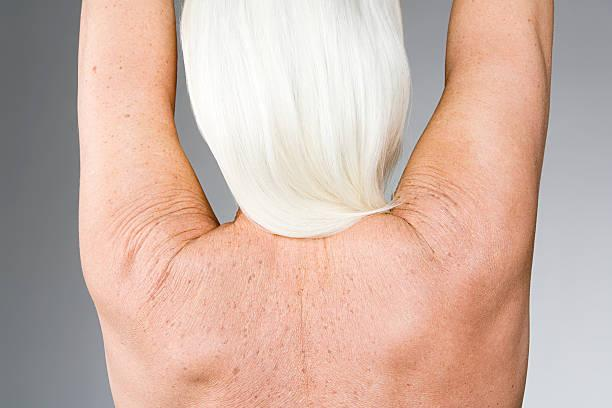Dry-Skin: (345, 162, 544, 299), (94, 148, 218, 339)
